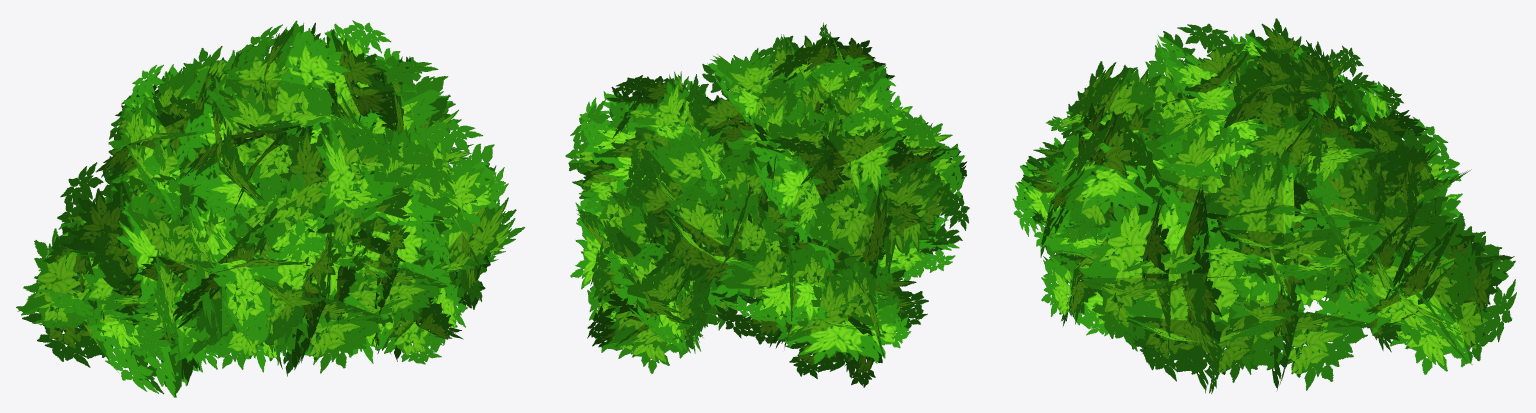
Rendered from OakLOD1.fbx.
The picture shows the model from 3 angles, left to right: view 1: azimuth 30°, elevation 25°; view 2: azimuth 150°, elevation 25°; view 3: azimuth 270°, elevation 25°; orthographic projection. The views are drawn at different scales.
Parts seen in each view (by area): view 1: Plane.027; view 2: Plane.027; view 3: Plane.027.
Part boxes in pixels (left/top/right/bottom): Plane.027: left=16, top=20, right=524, bottom=397; Plane.027: left=565, top=22, right=969, bottom=387; Plane.027: left=1012, top=18, right=1516, bottom=393.
Size of what is drawn, in the model's own units: 1535 by 1211 by 1676.
